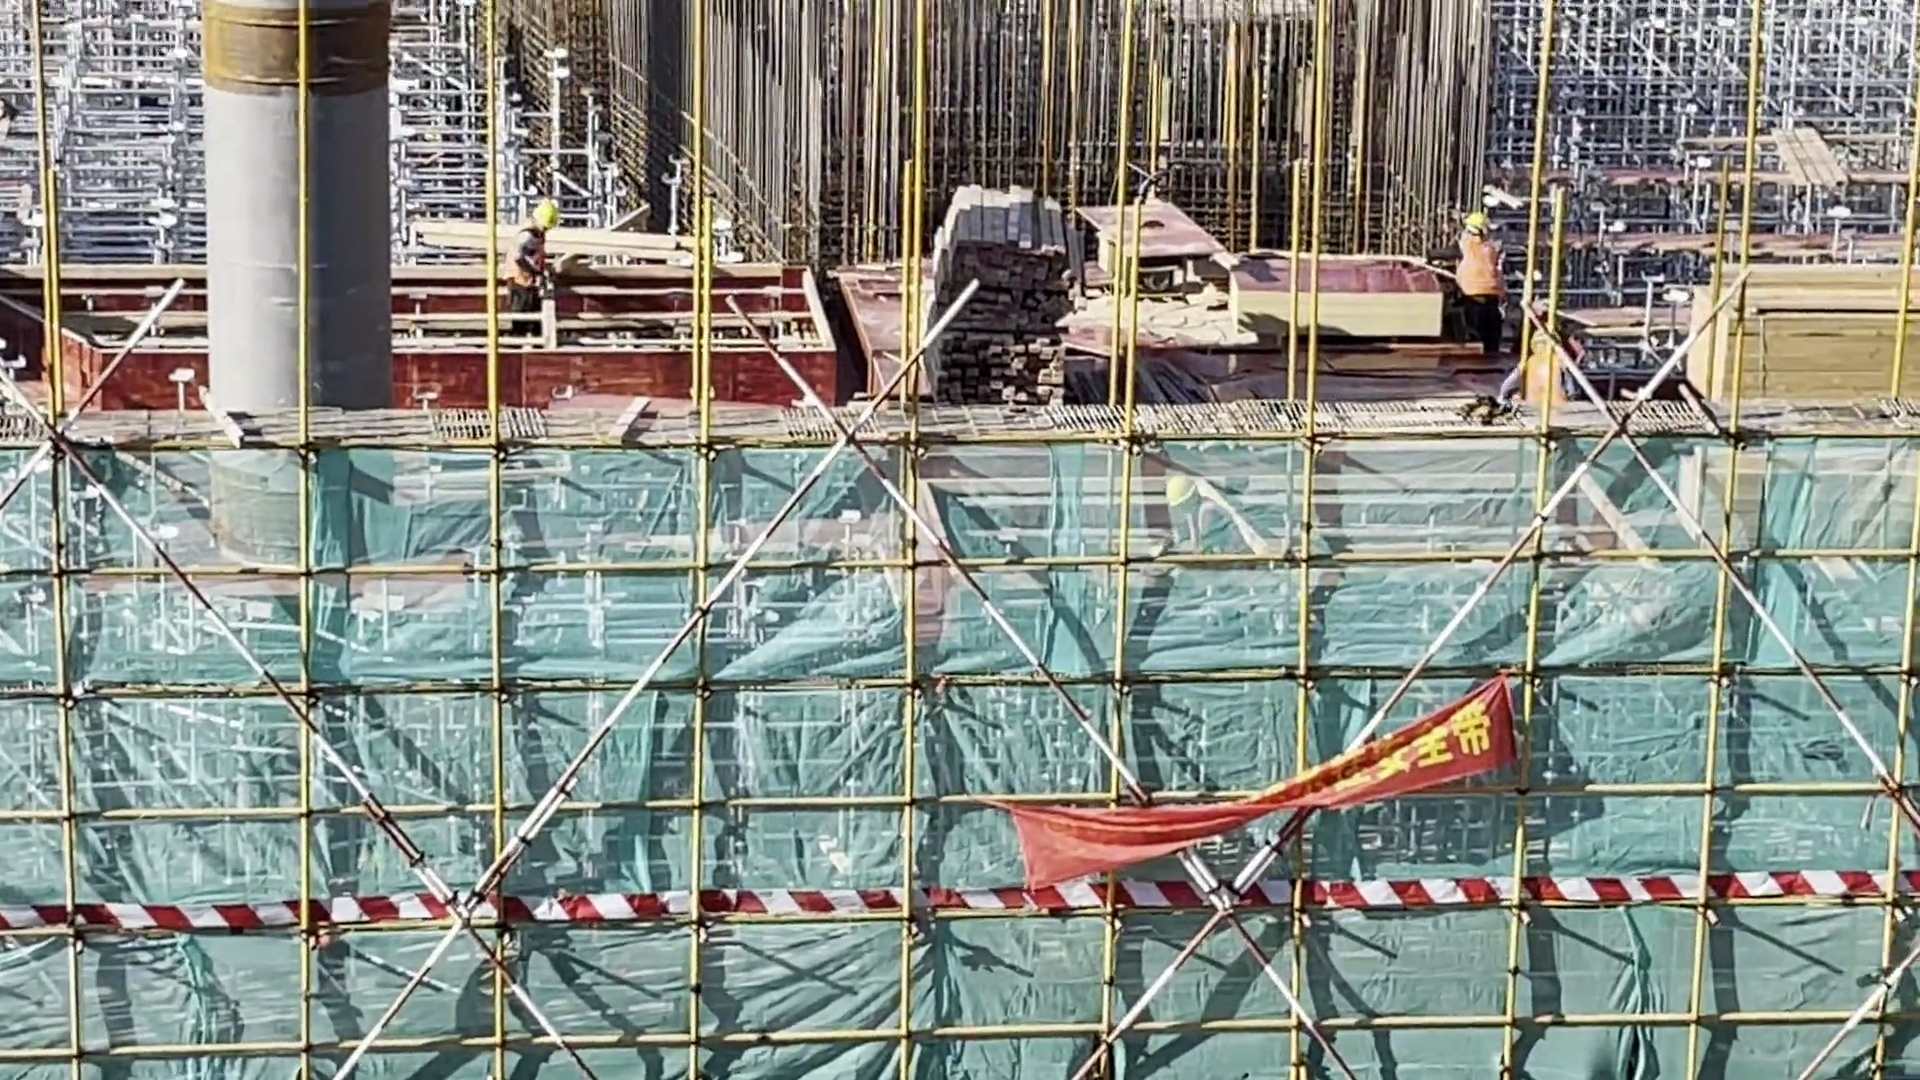helmet: (526, 197, 564, 234), (1463, 209, 1500, 235)
person: (1449, 200, 1522, 371), (500, 187, 574, 331)
slogan: (932, 649, 1561, 894)
vest: (1452, 231, 1512, 306), (510, 226, 551, 294)
wood: (921, 167, 1091, 431), (1680, 238, 1920, 423)
